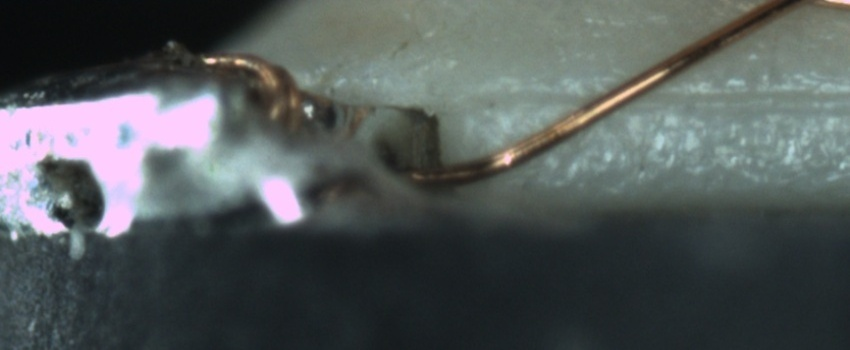DL: (487, 71, 849, 132)
TE: (191, 47, 303, 152)
